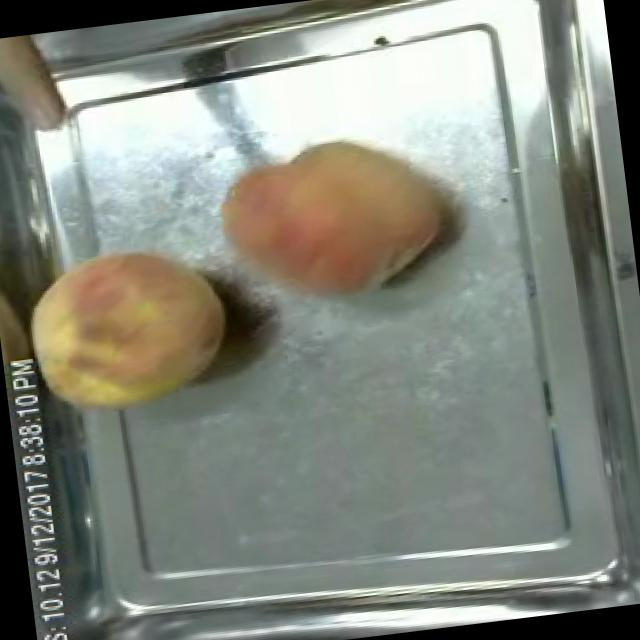Fruit: (202, 116, 459, 322), (9, 227, 246, 430)
